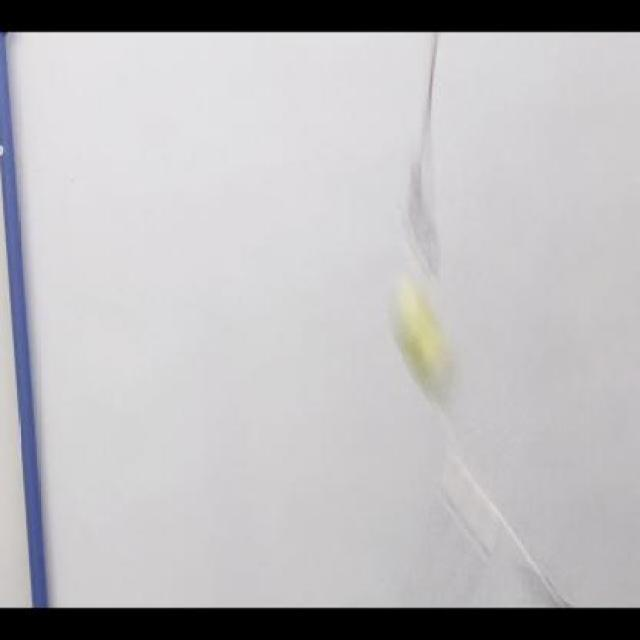baseball: (389, 269, 465, 413)
